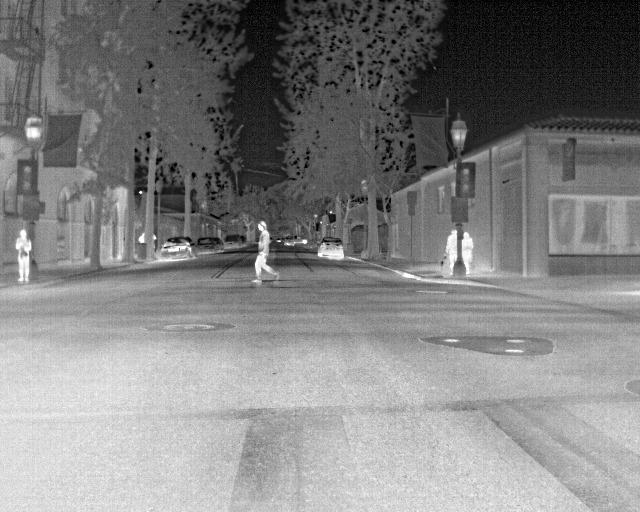bicycle: (158, 236, 193, 262), (317, 235, 347, 263), (195, 235, 218, 254), (223, 233, 242, 253)
empty: (249, 219, 281, 286), (13, 228, 35, 283), (459, 229, 476, 276), (444, 227, 458, 276)
